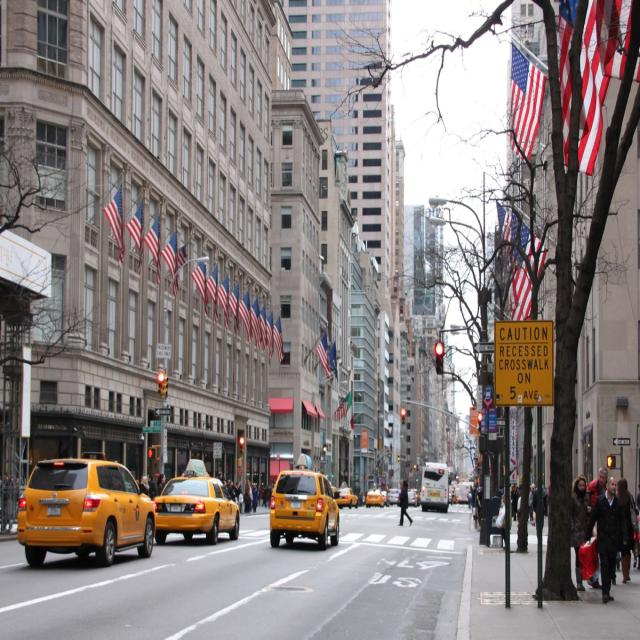body: (583, 474, 623, 604), (585, 466, 610, 590), (570, 472, 595, 592), (616, 477, 639, 585), (510, 482, 551, 526), (0, 474, 28, 527), (498, 485, 512, 551), (396, 478, 414, 527), (248, 481, 274, 513), (631, 482, 640, 571), (466, 484, 484, 524), (217, 468, 234, 502), (156, 472, 168, 514), (244, 478, 251, 513), (140, 475, 150, 496), (148, 471, 156, 497), (357, 490, 367, 508), (234, 481, 242, 503), (134, 476, 139, 487), (238, 482, 243, 493)
